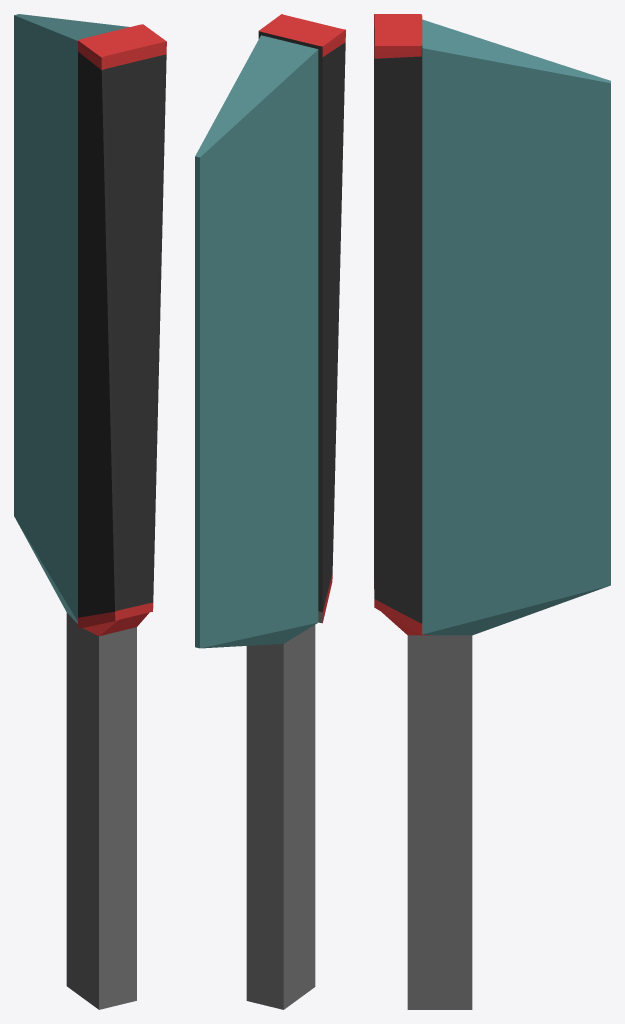
Rendered from bıcak2.fbx.
3 views of the same model, side by side, from view 1: azimuth 30°, elevation 25°; view 2: azimuth 150°, elevation 25°; view 3: azimuth 270°, elevation 25° (orthographic). The views are drawn at different scales.
Parts seen in each view (by area): view 1: Cube; view 2: Cube; view 3: Cube.
Part boxes in pixels (x1,y1,x2,y2): Cube: [14, 14, 166, 1009]; Cube: [195, 14, 345, 1009]; Cube: [374, 14, 610, 1009].
Bounding box in the file's own units: 126 × 1787 × 395.
